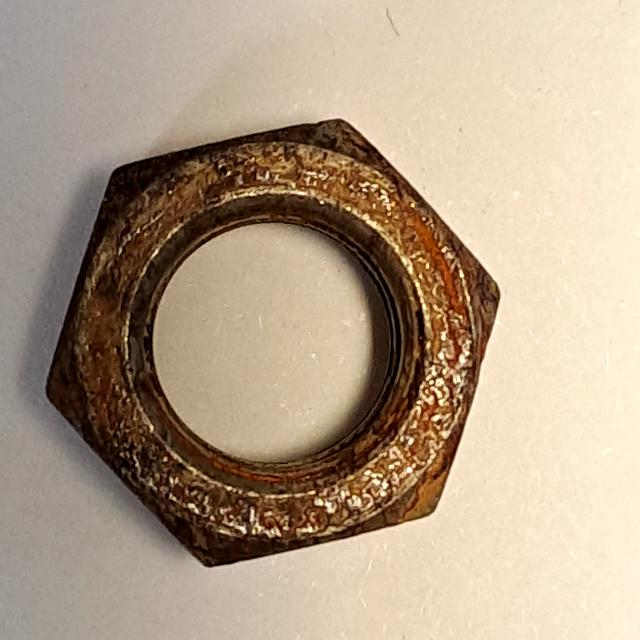Rust: (27, 102, 516, 578)
